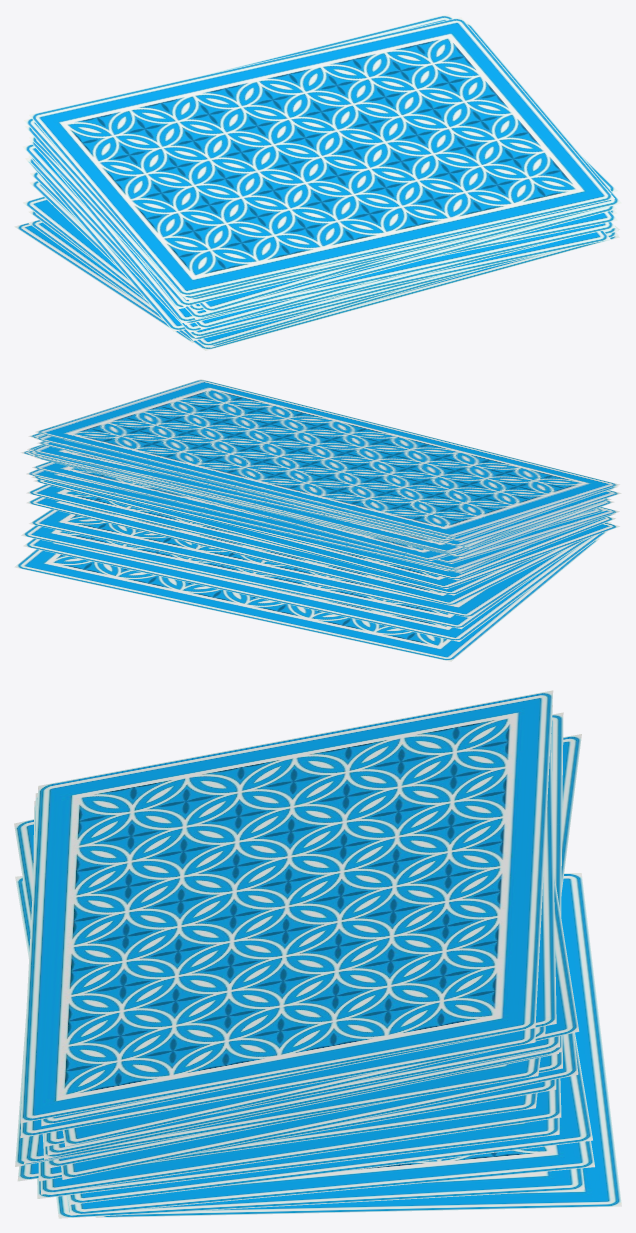
The picture shows the model from 3 angles, top to bottom: view 1: azimuth 30°, elevation 25°; view 2: azimuth 150°, elevation 25°; view 3: azimuth 270°, elevation 25°; orthographic projection. The views are drawn at different scales.
Visible parts, largest first — view 1: Cards; view 2: Cards; view 3: Cards.
Boxes of the visible parts, x1=… form: Cards: x1=14, y1=14, x2=621, y2=350; Cards: x1=14, y1=379, x2=621, y2=661; Cards: x1=14, y1=690, x2=621, y2=1218.
Size of the model in its own units: 1.59 by 0.3928 by 1.15.
Materials: 1 (1 with a texture image).
